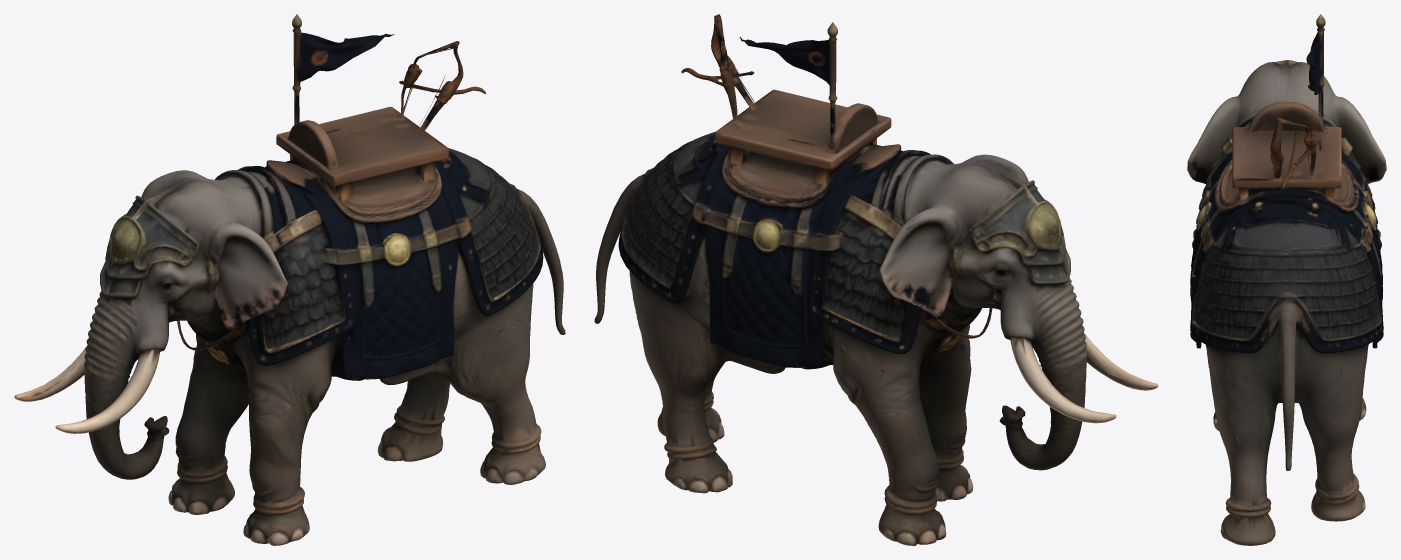
Rendered from elephant-black-hy3-v1.glb.
3 views of the same model, side by side, from view 1: azimuth 30°, elevation 25°; view 2: azimuth 150°, elevation 25°; view 3: azimuth 270°, elevation 25° (orthographic). The views are drawn at different scales.
Visible parts, largest first — view 1: node_0; view 2: node_0; view 3: node_0.
Boxes of the visible parts, left/top/right/bottom form: node_0: left=14, top=14, right=565, bottom=545; node_0: left=594, top=14, right=1158, bottom=545; node_0: left=1187, top=14, right=1386, bottom=545.
Size of the model in its own units: 2.81 by 2.4 by 0.9823.
Materials: 1 (1 with a texture image).
